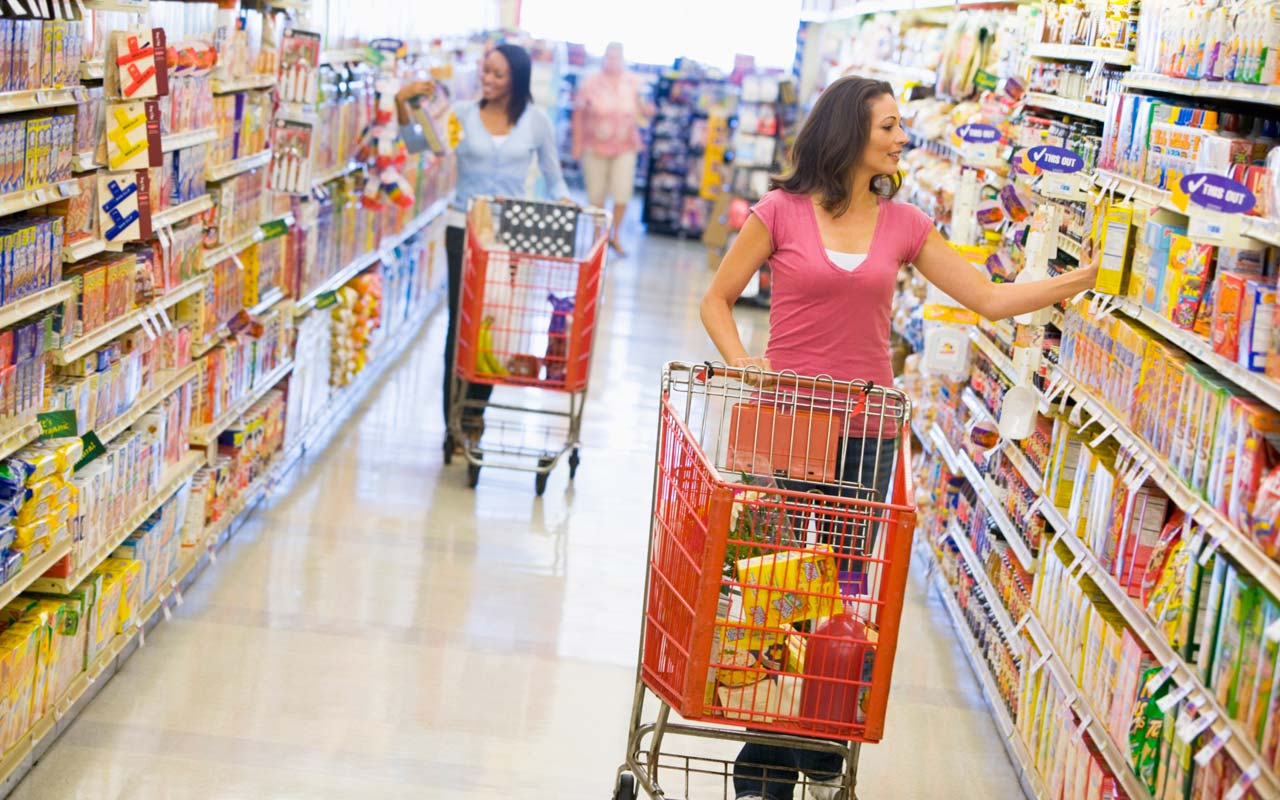Age_30_40: (809, 78, 918, 187), (477, 50, 526, 105)
E_Black: (477, 50, 526, 105)
E_White: (809, 78, 918, 187)
Emotion_Happy: (809, 78, 918, 187), (477, 50, 526, 105)
G_ Female: (809, 78, 918, 187), (477, 50, 526, 105)
Not_Face: (603, 45, 630, 72)
